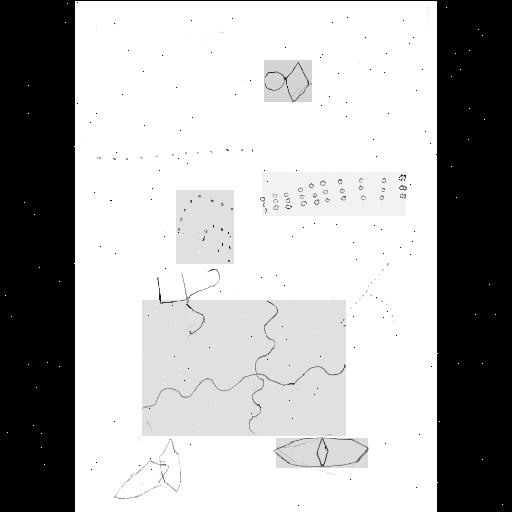shape-1: (264, 60, 312, 102)
shape-2: (98, 146, 254, 162)
shape-3: (262, 172, 406, 216)
shape-4: (176, 190, 234, 264)
shape-5: (156, 266, 220, 336)
shape-6: (342, 260, 396, 330)
shape-7: (142, 300, 346, 436)
shape-8: (116, 440, 182, 500)
shape-9: (276, 438, 368, 468)
